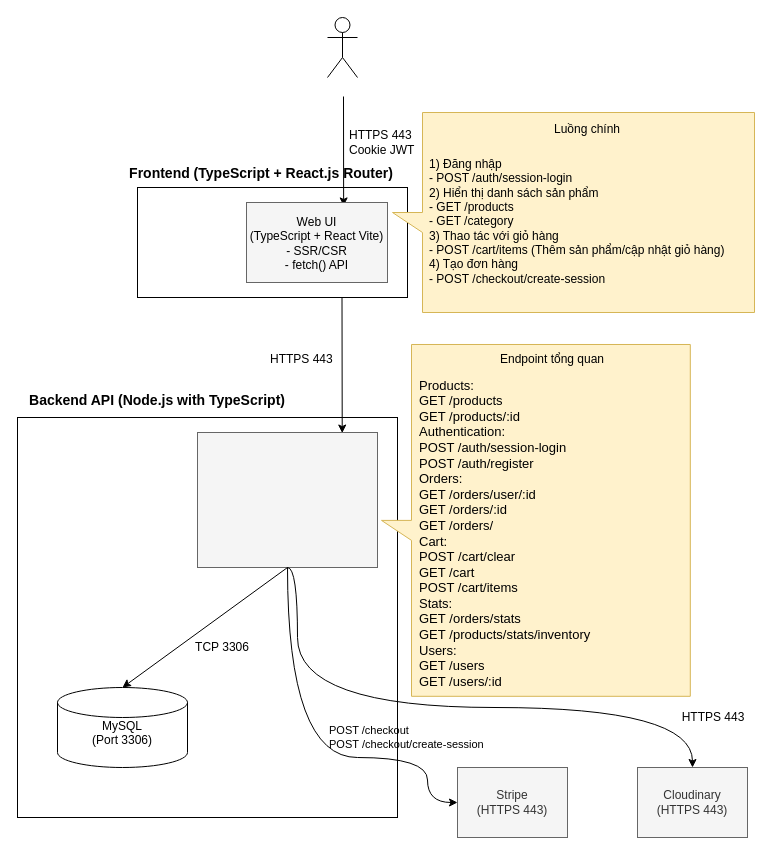
This 772x855 diagram has some shape labels left out. The centre of each missing label's shape, as x and y in pixels:
"Client Browser" goes at pixel 342 47.
"REST API - Products - Authentication - Orders - Checkout - Cart - Stats - Users" goes at pixel 287 500.
